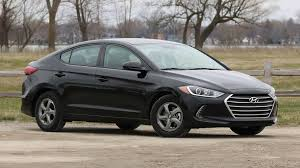elantra: (15, 34, 285, 142)
